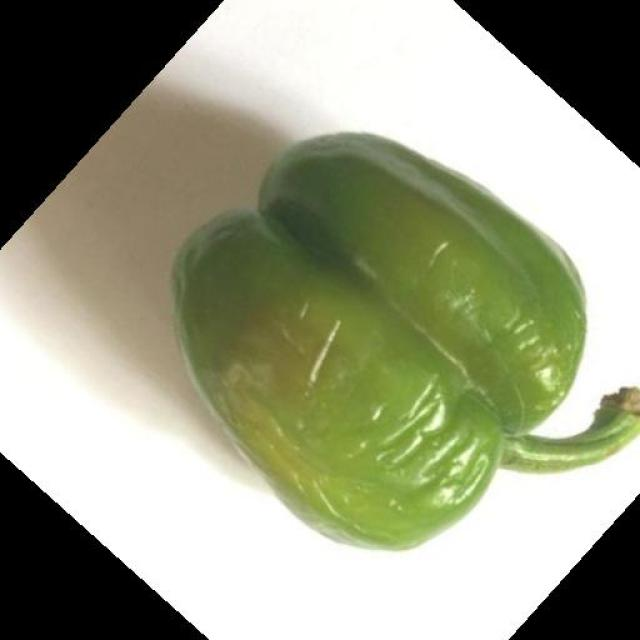Stale_Capsicum: (183, 154, 598, 532)
